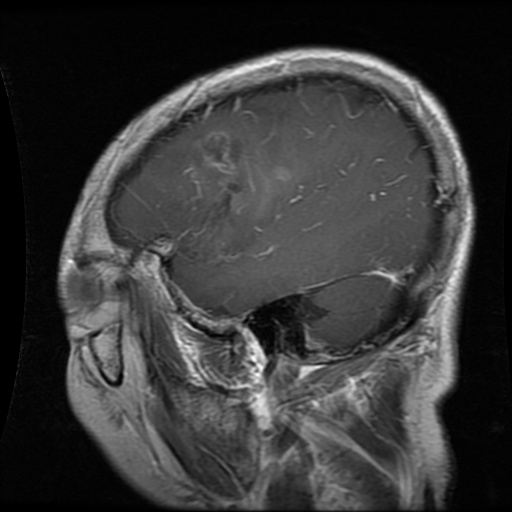glioma: (186, 125, 302, 258)
